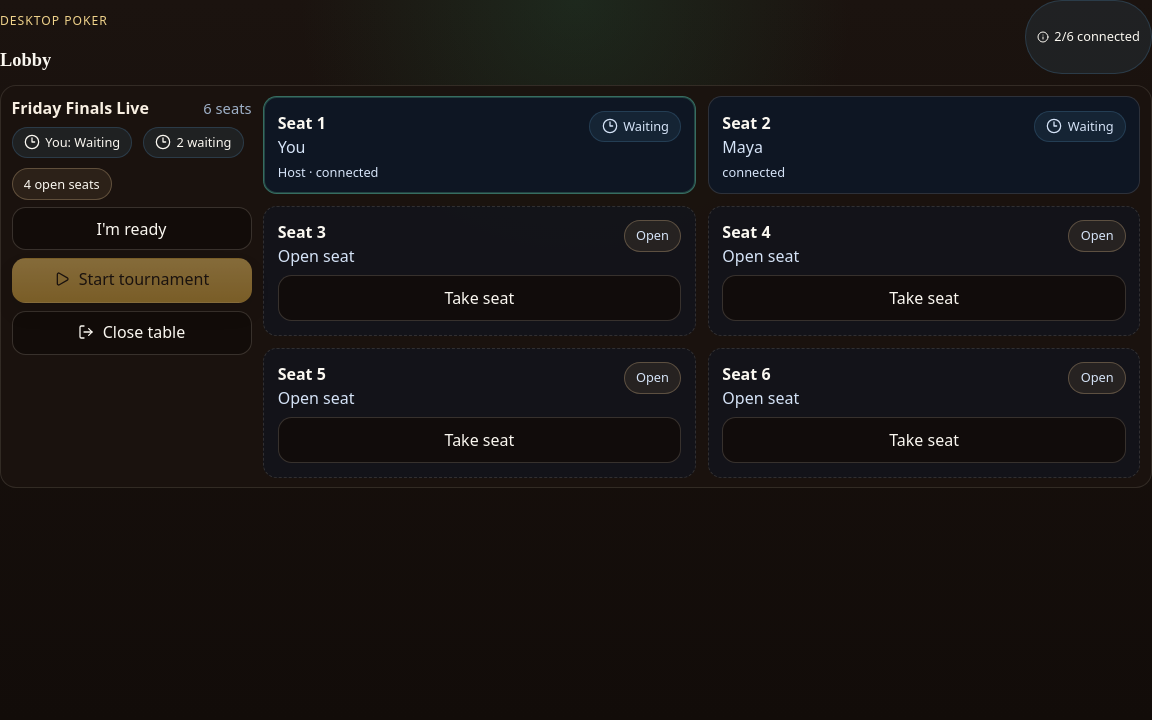
Test: TournamentLobbyScreen › keeps the leave dialog open with error and retry button after a backend failure (B7)
The image size is (1152, 720).
Click the button "Close table": click(132, 333) [12,311,252,355]
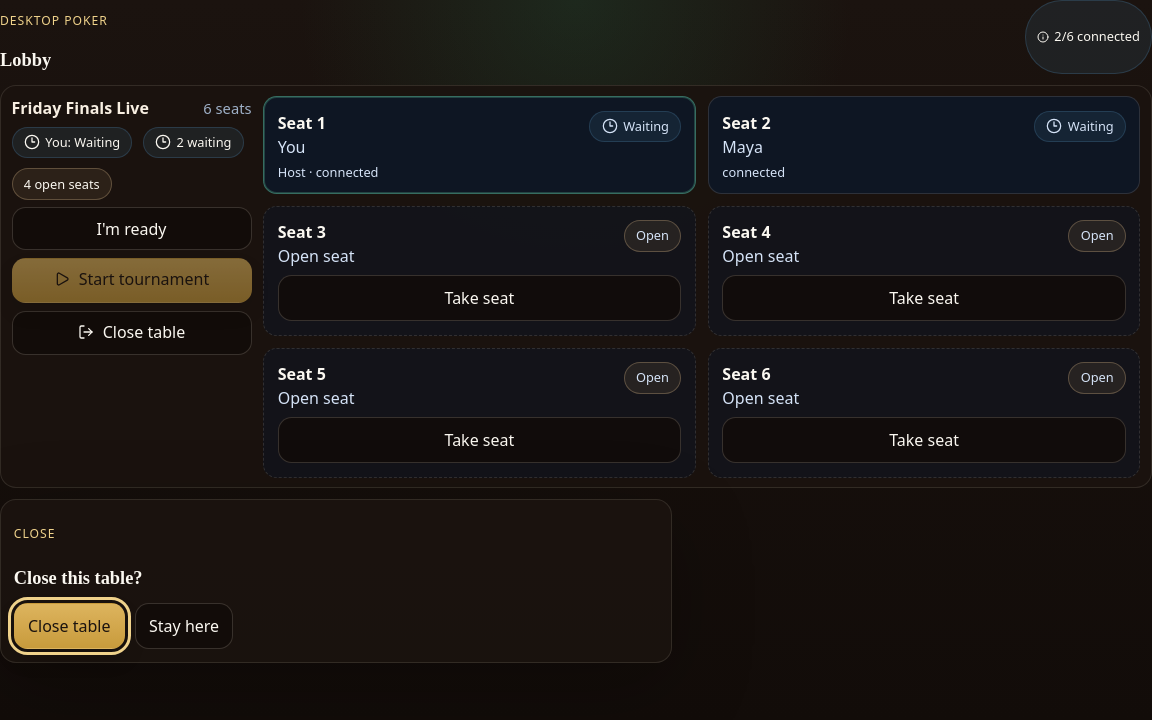
expect the heading "Close this table?" is shown: met, box [14,568,143,588]
Click the button "Close table" below "Close this table?": click(69, 626) [14,603,124,649]
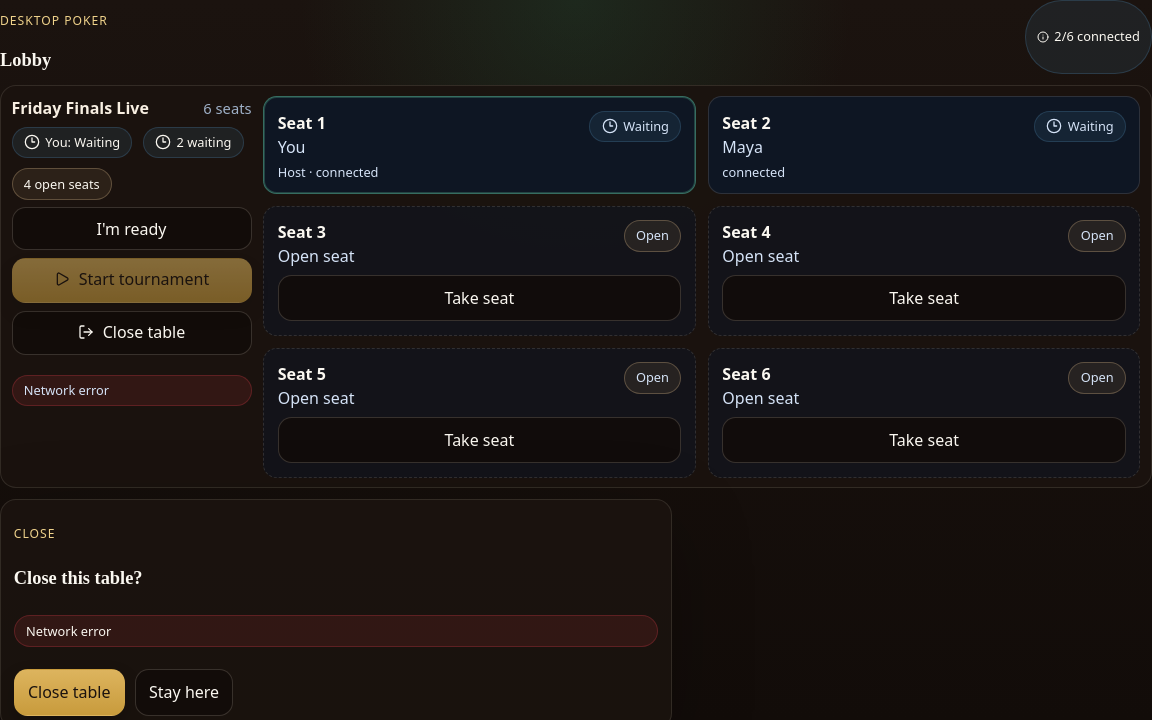
expect the heading "Close this table?" is shown: met, box [14,568,143,588]
expect the button "Stay here" is shown: met, box [135,669,233,716]
expect the text "Network error" below "4 open seats" is shown: met, box [24,381,109,399]
